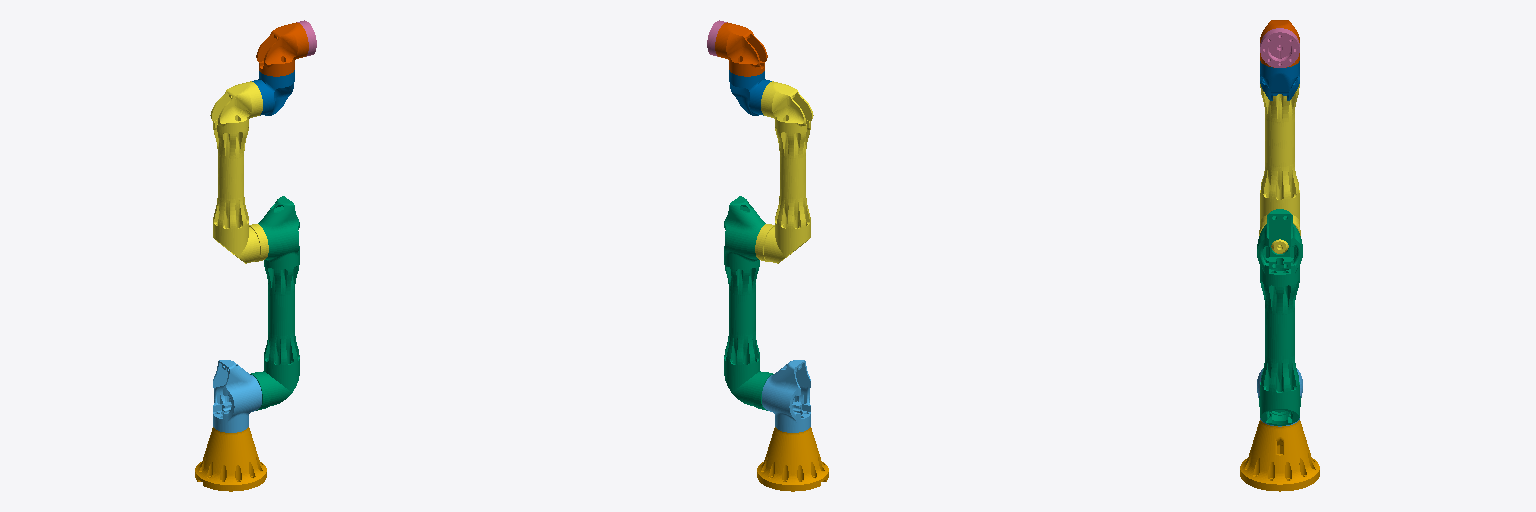
robot.urdf — robot:
<?xml version="1.0" ?>
<robot name="robot">

<material name="silver">
  <color rgba="0.700 0.700 0.700 1.000"/>
</material>

<link name="base_link">
  <inertial>
    <origin xyz="-0.0005465501649017804 1.4616003634339605e-08 0.019225601715433888" rpy="0 0 0"/>
    <mass value="0.6806509078768131"/>
    <inertia ixx="0.00030024181507721804" iyy="0.00028828764306911556" izz="0.00034916715071604663" ixy="-1.5642458381103987e-10" iyz="2.2832716074672855e-11" ixz="9.127604734923286e-07"/>
  </inertial>
  <visual>
    <origin xyz="0 0 0" rpy="0 0 0"/>
    <geometry>
      <mesh filename="meshes/base_link.stl" scale="0.001 0.001 0.001"/>
    </geometry>
    <material name="silver"/>
    <material/>
  </visual>
  <collision>
    <origin xyz="0 0 0" rpy="0 0 0"/>
    <geometry>
      <mesh filename="meshes/base_link.stl" scale="0.001 0.001 0.001"/>
    </geometry>
  </collision>
</link>

<link name="link_2_export2">
  <inertial>
    <origin xyz="0.0038482277794068148 -4.001388809237474e-08 0.02099904026155458" rpy="0 0 0"/>
    <mass value="0.30538956799687245"/>
    <inertia ixx="0.00020766626674177972" iyy="0.00019835708541503455" izz="6.101430988071338e-05" ixy="7.869510601658864e-11" iyz="4.0276523500809853e-10" ixz="-1.74673147133117e-05"/>
  </inertial>
  <visual>
    <origin xyz="-0.0 -0.0 -0.056713" rpy="0 0 0"/>
    <geometry>
      <mesh filename="meshes/link_2_export2.stl" scale="0.001 0.001 0.001"/>
    </geometry>
    <material name="silver"/>
    <material/>
  </visual>
  <collision>
    <origin xyz="-0.0 -0.0 -0.056713" rpy="0 0 0"/>
    <geometry>
      <mesh filename="meshes/link_2_export2.stl" scale="0.001 0.001 0.001"/>
    </geometry>
  </collision>
</link>

<link name="link_3_export1">
  <inertial>
    <origin xyz="0.02538692917223098 -1.650264167831358e-08 0.083696311823773" rpy="0 0 0"/>
    <mass value="0.7178569630607678"/>
    <inertia ixx="0.003453863017704159" iyy="0.003531954161522681" izz="0.00023573359957974362" ixy="6.971641236423458e-10" iyz="-1.7868399097884922e-09" ixz="-0.00025849825429575136"/>
  </inertial>
  <visual>
    <origin xyz="-0.026147 -0.0 -0.087713" rpy="0 0 0"/>
    <geometry>
      <mesh filename="meshes/link_3_export1.stl" scale="0.001 0.001 0.001"/>
    </geometry>
    <material name="silver"/>
    <material/>
  </visual>
  <collision>
    <origin xyz="-0.026147 -0.0 -0.087713" rpy="0 0 0"/>
    <geometry>
      <mesh filename="meshes/link_3_export1.stl" scale="0.001 0.001 0.001"/>
    </geometry>
  </collision>
</link>

<link name="link_4_export2">
  <inertial>
    <origin xyz="-0.024838816680343344 3.042461013429985e-08 0.06827747920542848" rpy="0 0 0"/>
    <mass value="0.6192753254989368"/>
    <inertia ixx="0.0023380617603635245" iyy="0.0024253753672437706" izz="0.0002071353833824749" ixy="-2.103345816209162e-11" iyz="-9.385338317290812e-10" ixz="0.00022226556714422235"/>
  </inertial>
  <visual>
    <origin xyz="-0.033 -0.0 -0.253313" rpy="0 0 0"/>
    <geometry>
      <mesh filename="meshes/link_4_export2.stl" scale="0.001 0.001 0.001"/>
    </geometry>
    <material name="silver"/>
    <material/>
  </visual>
  <collision>
    <origin xyz="-0.033 -0.0 -0.253313" rpy="0 0 0"/>
    <geometry>
      <mesh filename="meshes/link_4_export2.stl" scale="0.001 0.001 0.001"/>
    </geometry>
  </collision>
</link>

<link name="link_5_export2">
  <inertial>
    <origin xyz="0.012237064142870898 -4.302221421175049e-09 0.0038631070158589575" rpy="0 0 0"/>
    <mass value="0.1890292212363113"/>
    <inertia ixx="3.3430808823717295e-05" iyy="6.017469246877294e-05" izz="5.8095935822008026e-05" ixy="2.4944747873954917e-11" iyz="3.914720123606545e-11" ixz="-1.0840729599629218e-05"/>
  </inertial>
  <visual>
    <origin xyz="-0.027 -0.0 -0.414213" rpy="0 0 0"/>
    <geometry>
      <mesh filename="meshes/link_5_export2.stl" scale="0.001 0.001 0.001"/>
    </geometry>
    <material name="silver"/>
    <material/>
  </visual>
  <collision>
    <origin xyz="-0.027 -0.0 -0.414213" rpy="0 0 0"/>
    <geometry>
      <mesh filename="meshes/link_5_export2.stl" scale="0.001 0.001 0.001"/>
    </geometry>
  </collision>
</link>

<link name="link_6_export2">
  <inertial>
    <origin xyz="0.0038632543476789724 4.302221532679108e-09 0.012236916811050769" rpy="0 0 0"/>
    <mass value="0.1890292212363113"/>
    <inertia ixx="5.8095935822004285e-05" iyy="6.017469246878682e-05" izz="3.34308088237199e-05" ixy="-3.9147201236676234e-11" iyz="-2.4944747875776285e-11" ixz="-1.0840729599627917e-05"/>
  </inertial>
  <visual>
    <origin xyz="-0.0533 -0.0 -0.441213" rpy="0 0 0"/>
    <geometry>
      <mesh filename="meshes/link_6_export2.stl" scale="0.001 0.001 0.001"/>
    </geometry>
    <material name="silver"/>
    <material/>
  </visual>
  <collision>
    <origin xyz="-0.0533 -0.0 -0.441213" rpy="0 0 0"/>
    <geometry>
      <mesh filename="meshes/link_6_export2.stl" scale="0.001 0.001 0.001"/>
    </geometry>
  </collision>
</link>

<link name="link_7_export2">
  <inertial>
    <origin xyz="-0.000982677586266592 1.0397327305811123e-08 -7.650683539855985e-05" rpy="0 0 0"/>
    <mass value="0.08320404069359016"/>
    <inertia ixx="1.0577626128216444e-05" iyy="9.468777075374857e-06" izz="9.377771284876544e-06" ixy="-6.755346697193664e-12" iyz="1.0544653482634517e-11" ixz="2.1607118659387747e-08"/>
  </inertial>
  <visual>
    <origin xyz="-0.0803 -0.0 -0.467513" rpy="0 0 0"/>
    <geometry>
      <mesh filename="meshes/link_7_export2.stl" scale="0.001 0.001 0.001"/>
    </geometry>
    <material name="silver"/>
    <material/>
  </visual>
  <collision>
    <origin xyz="-0.0803 -0.0 -0.467513" rpy="0 0 0"/>
    <geometry>
      <mesh filename="meshes/link_7_export2.stl" scale="0.001 0.001 0.001"/>
    </geometry>
  </collision>
</link>

<joint name="Revolute_14" type="revolute">
  <origin xyz="0.0 0.0 0.056713" rpy="0 0 0"/>
  <parent link="base_link"/>
  <child link="link_2_export2"/>
  <axis xyz="0.0 0.0 1.0"/>
  <limit upper="1.570796" lower="-1.570796" effort="100" velocity="100"/>
</joint>
<transmission name="Revolute_14_tran">
  <type>transmission_interface/SimpleTransmission</type>
  <joint name="Revolute_14">
    <hardwareInterface>PositionJointInterface</hardwareInterface>
  </joint>
  <actuator name="Revolute_14_actr">
    <hardwareInterface>PositionJointInterface</hardwareInterface>
    <mechanicalReduction>1</mechanicalReduction>
  </actuator>
</transmission>

<joint name="Revolute_15" type="revolute">
  <origin xyz="0.026147 0.0 0.031" rpy="0 0 0"/>
  <parent link="link_2_export2"/>
  <child link="link_3_export1"/>
  <axis xyz="-1.0 0.0 0.0"/>
  <limit upper="1.570796" lower="-1.570796" effort="100" velocity="100"/>
</joint>
<transmission name="Revolute_15_tran">
  <type>transmission_interface/SimpleTransmission</type>
  <joint name="Revolute_15">
    <hardwareInterface>PositionJointInterface</hardwareInterface>
  </joint>
  <actuator name="Revolute_15_actr">
    <hardwareInterface>PositionJointInterface</hardwareInterface>
    <mechanicalReduction>1</mechanicalReduction>
  </actuator>
</transmission>

<joint name="Revolute_16" type="revolute">
  <origin xyz="0.006853 0.0 0.1656" rpy="0 0 0"/>
  <parent link="link_3_export1"/>
  <child link="link_4_export2"/>
  <axis xyz="1.0 -0.0 -0.0"/>
  <limit upper="1.570796" lower="-1.570796" effort="100" velocity="100"/>
</joint>
<transmission name="Revolute_16_tran">
  <type>transmission_interface/SimpleTransmission</type>
  <joint name="Revolute_16">
    <hardwareInterface>PositionJointInterface</hardwareInterface>
  </joint>
  <actuator name="Revolute_16_actr">
    <hardwareInterface>PositionJointInterface</hardwareInterface>
    <mechanicalReduction>1</mechanicalReduction>
  </actuator>
</transmission>

<joint name="Revolute_10" type="revolute">
  <origin xyz="-0.006 0.0 0.1609" rpy="0 0 0"/>
  <parent link="link_4_export2"/>
  <child link="link_5_export2"/>
  <axis xyz="1.0 0.0 -0.0"/>
  <limit upper="1.570796" lower="-1.570796" effort="100" velocity="100"/>
</joint>
<transmission name="Revolute_10_tran">
  <type>transmission_interface/SimpleTransmission</type>
  <joint name="Revolute_10">
    <hardwareInterface>PositionJointInterface</hardwareInterface>
  </joint>
  <actuator name="Revolute_10_actr">
    <hardwareInterface>PositionJointInterface</hardwareInterface>
    <mechanicalReduction>1</mechanicalReduction>
  </actuator>
</transmission>

<joint name="Revolute_11" type="revolute">
  <origin xyz="0.0263 0.0 0.027" rpy="0 0 0"/>
  <parent link="link_5_export2"/>
  <child link="link_6_export2"/>
  <axis xyz="0.0 -0.0 1.0"/>
  <limit upper="1.570796" lower="-1.570796" effort="100" velocity="100"/>
</joint>
<transmission name="Revolute_11_tran">
  <type>transmission_interface/SimpleTransmission</type>
  <joint name="Revolute_11">
    <hardwareInterface>PositionJointInterface</hardwareInterface>
  </joint>
  <actuator name="Revolute_11_actr">
    <hardwareInterface>PositionJointInterface</hardwareInterface>
    <mechanicalReduction>1</mechanicalReduction>
  </actuator>
</transmission>

<joint name="Revolute_13" type="revolute">
  <origin xyz="0.027 0.0 0.0263" rpy="0 0 0"/>
  <parent link="link_6_export2"/>
  <child link="link_7_export2"/>
  <axis xyz="1.0 0.0 0.0"/>
  <limit upper="1.570796" lower="-1.570796" effort="100" velocity="100"/>
</joint>
<transmission name="Revolute_13_tran">
  <type>transmission_interface/SimpleTransmission</type>
  <joint name="Revolute_13">
    <hardwareInterface>PositionJointInterface</hardwareInterface>
  </joint>
  <actuator name="Revolute_13_actr">
    <hardwareInterface>PositionJointInterface</hardwareInterface>
    <mechanicalReduction>1</mechanicalReduction>
  </actuator>
</transmission>

</robot>

--- Render facts (derived) ---
The picture shows the robot from 3 angles, left to right: view 1: azimuth 30°, elevation 25°; view 2: azimuth 150°, elevation 25°; view 3: azimuth 270°, elevation 25°; orthographic projection.
Robot: robot — 7 links, 6 joints (6 revolute); root link base_link; default pose: all joints at 0.
Visible links, largest first — view 1: link_3_export1, link_4_export2, base_link, link_2_export2, link_6_export2, link_5_export2; view 2: link_3_export1, link_4_export2, base_link, link_2_export2, link_6_export2, link_5_export2; view 3: link_3_export1, link_4_export2, base_link, link_7_export2, link_5_export2.
Boxes of the visible links, x1,y1,x2,y2 form: link_3_export1: (250, 196, 299, 410); link_4_export2: (210, 81, 268, 263); base_link: (195, 427, 266, 491); link_2_export2: (213, 360, 261, 432); link_6_export2: (256, 22, 308, 76); link_5_export2: (252, 70, 294, 115); link_3_export1: (724, 196, 773, 410); link_4_export2: (755, 81, 813, 263); base_link: (757, 427, 828, 491); link_2_export2: (762, 360, 810, 432); link_6_export2: (715, 22, 767, 76); link_5_export2: (729, 70, 771, 115); link_3_export1: (1257, 209, 1302, 425); link_4_export2: (1259, 84, 1300, 253); base_link: (1240, 420, 1319, 491); link_7_export2: (1260, 28, 1299, 67); link_5_export2: (1260, 61, 1299, 100).
Size in the robot's own frame: 0.1256 by 0.0723 by 0.4855 metres.
Meshes: 7 distinct files referenced, 7 mesh visuals loaded (7 binary STL).
